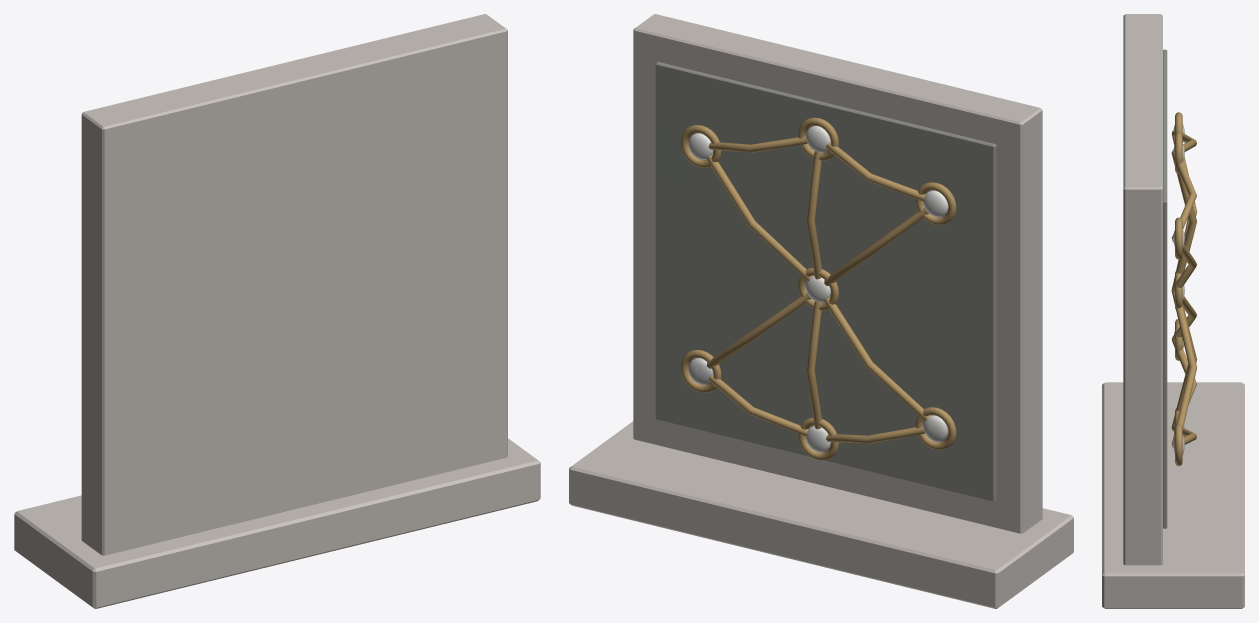
The model's file is mobile.glb.
3 renders of one model, left to right at view 1: azimuth 30°, elevation 25°; view 2: azimuth 150°, elevation 25°; view 3: azimuth 270°, elevation 25°, orthographic. The views are drawn at different scales.
Bounding box in the file's own units: 3 × 3 × 0.94.
Materials: 1 (1 with a texture image).
